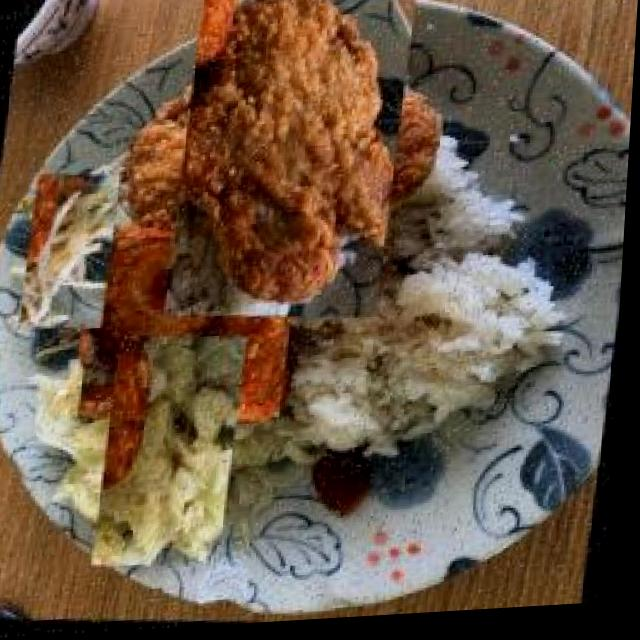chinese_cabbage: (77, 354, 276, 553)
fried_chicken: (143, 6, 442, 308)
mung_bean_sprouts: (22, 172, 125, 336)
rice: (303, 187, 545, 458)
triangle_hash_brown: (83, 227, 307, 435)
